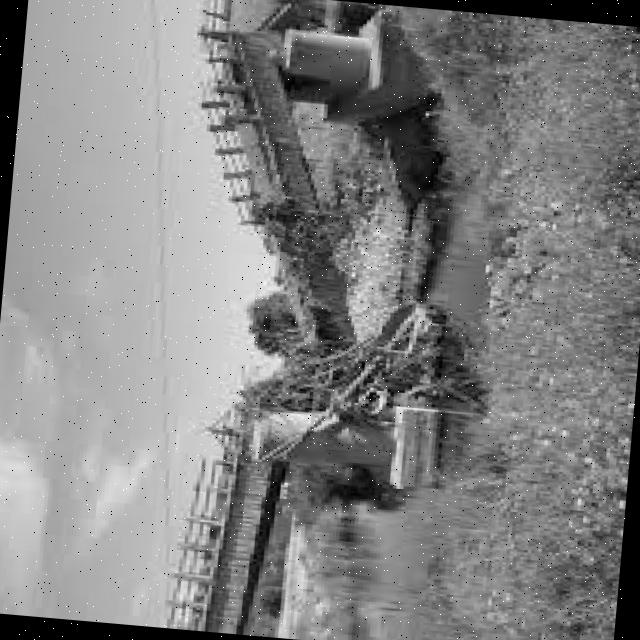bridge collapse: (73, 9, 524, 640)
